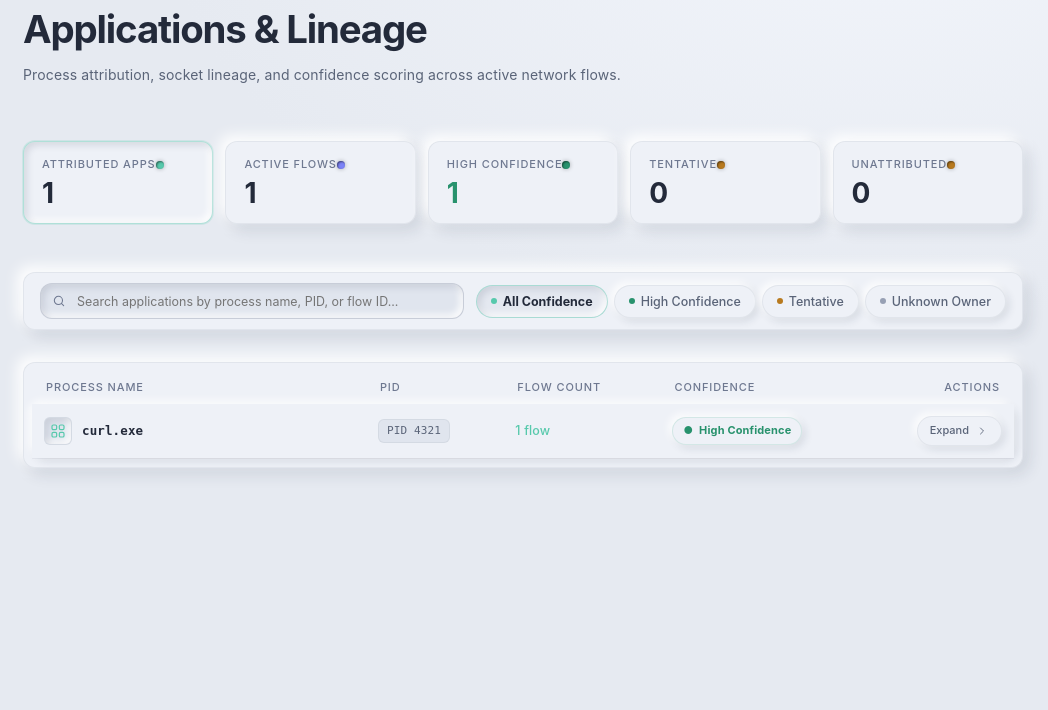
Apps Screen & useAppsController › Socket Lineage in Expanded Row Tray › displays communicating endpoint hostnames/IPs, protocol badges, direction badges, bandwidth, and classification
Expected: the text "curl.exe" is shown, left=82, top=421, right=143, bottom=441
Click the button with aria-label "Expand curl.exe".
click(959, 431)  # box left=917, top=416, right=1002, bottom=446
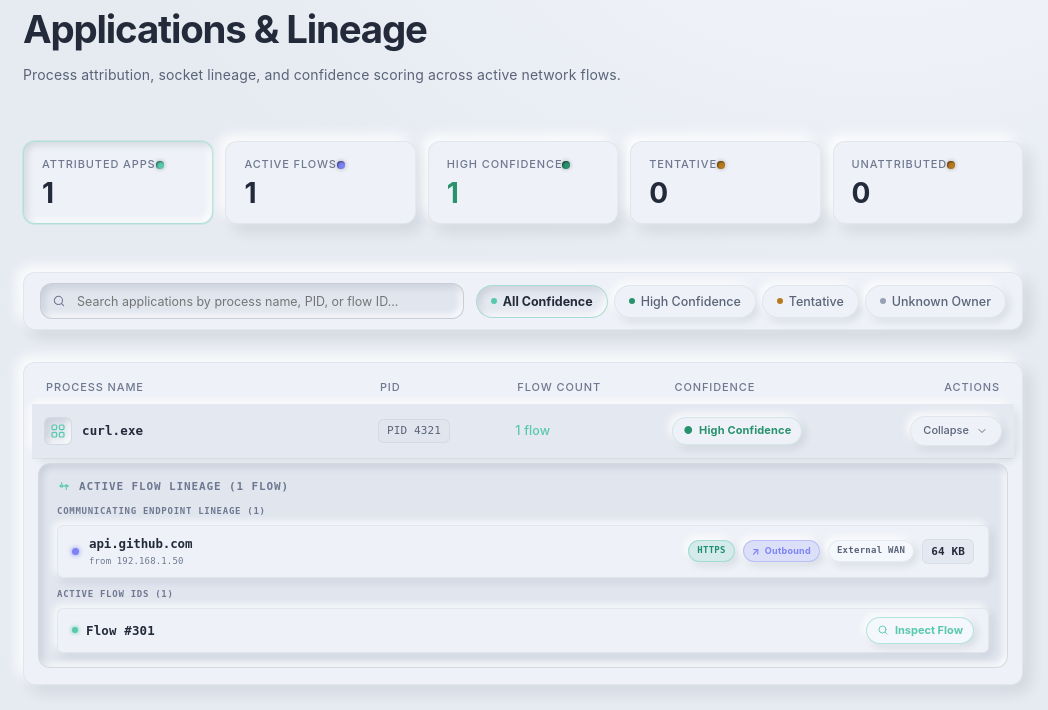
Expected: the text "api.github.com" is shown, left=89, top=534, right=192, bottom=553
Expected: the text "from 192.168.1.50" is shown, left=89, top=555, right=192, bottom=569
Expected: the text named "Protocol: HTTPS" reads "HTTPS", left=697, top=545, right=726, bottom=555
